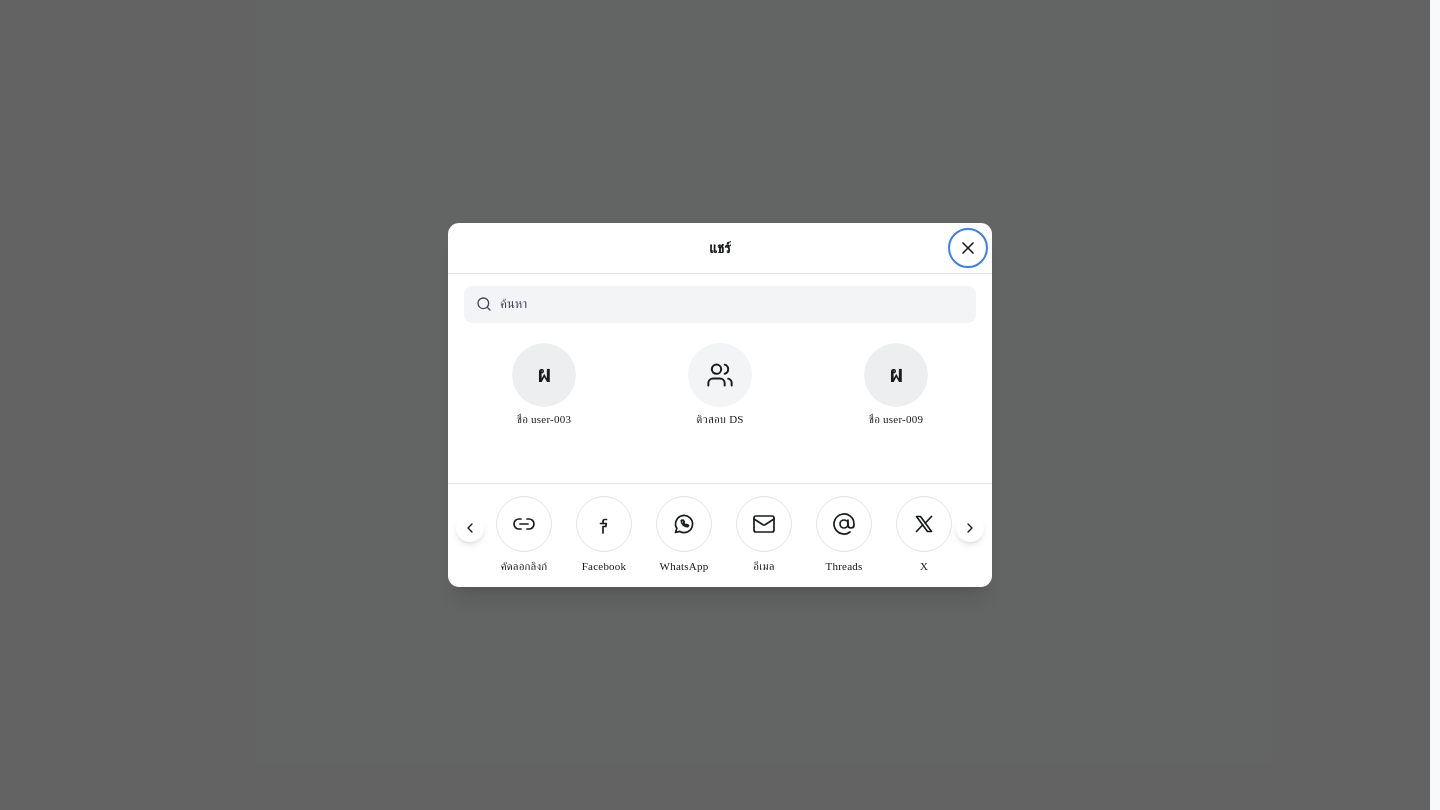
แผ่นแชร์ › ค้นหาด้วยชื่อที่แสดง กรองตาราง
Check: the button "ผ ชื่อ user-003" is shown, box [456,335,632,434]
Type "ติวสอบ" into the field named "ค้นหาคนที่จะส่งให้" at (732,304), box [500,294,964,315]
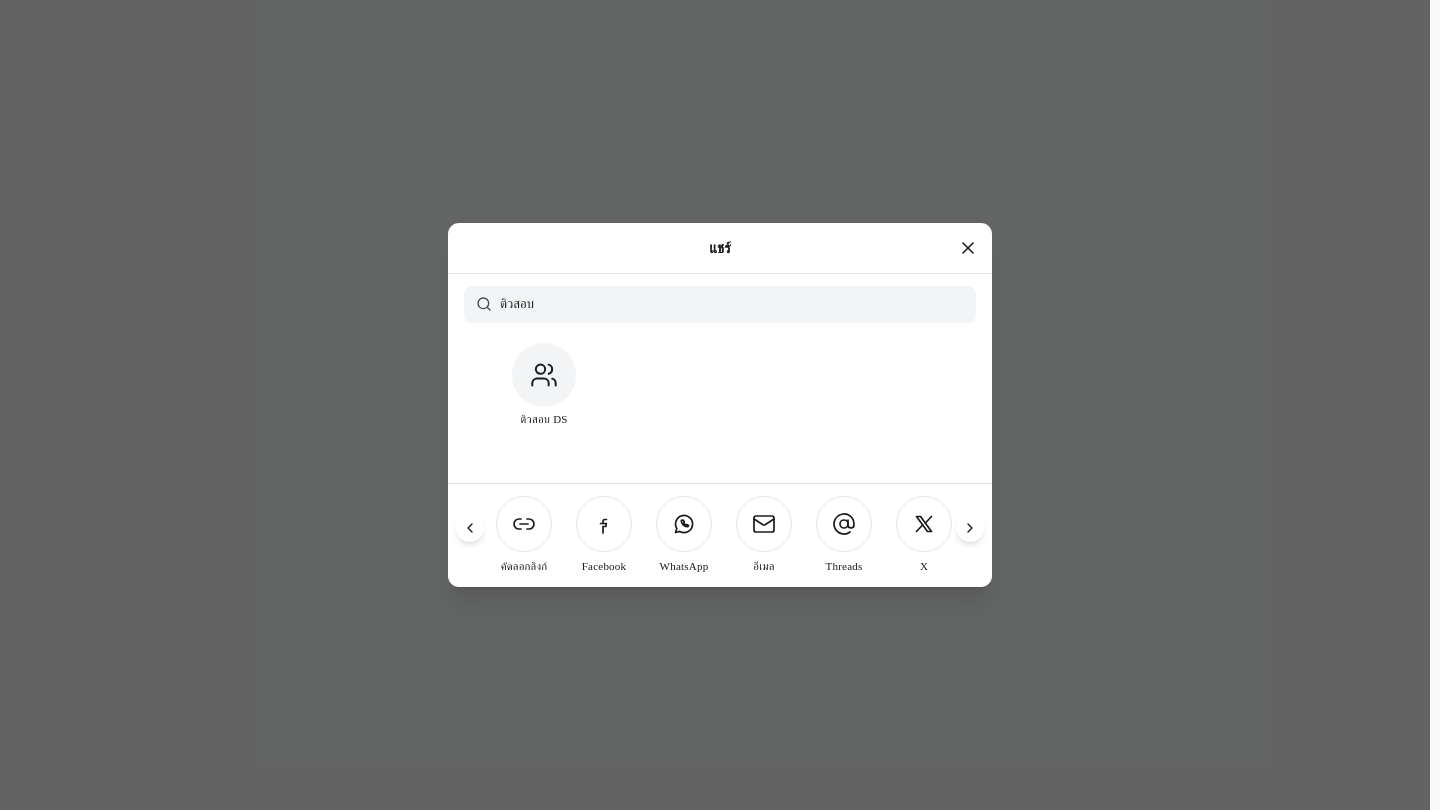
Check: the button "ติวสอบ DS" is shown, box [456,335,632,434]
Check: the button "ชื่อ user-003" is gone
